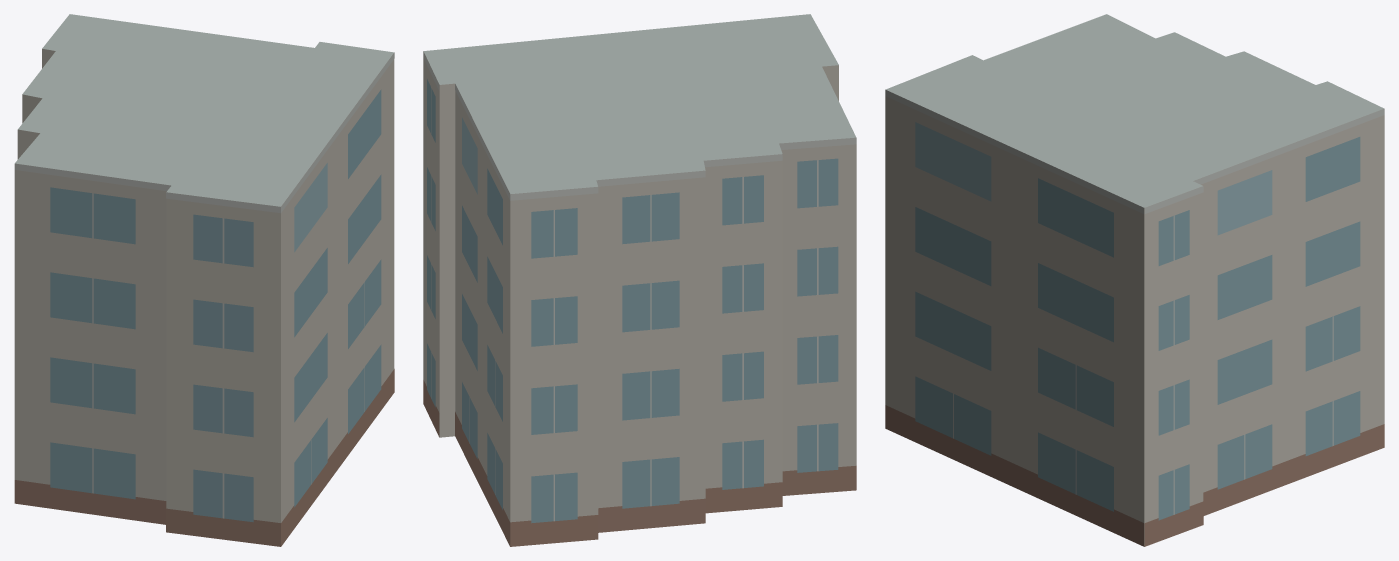
Rendered from survey-upis-32690560.glb.
3 views of the same model, side by side, from view 1: azimuth 30°, elevation 25°; view 2: azimuth 150°, elevation 25°; view 3: azimuth 270°, elevation 25° (orthographic). The views are drawn at different scales.
Parts seen in each view (by area): view 1: survey-upis-32690560.tmp; view 2: survey-upis-32690560.tmp; view 3: survey-upis-32690560.tmp.
Boxes of the visible parts, x1,y1,x2,y2 form: survey-upis-32690560.tmp: (14,14,394,546); survey-upis-32690560.tmp: (423,14,856,546); survey-upis-32690560.tmp: (885,14,1384,546).
Size of the model in its own units: 15.83 by 12.9 by 17.22.
